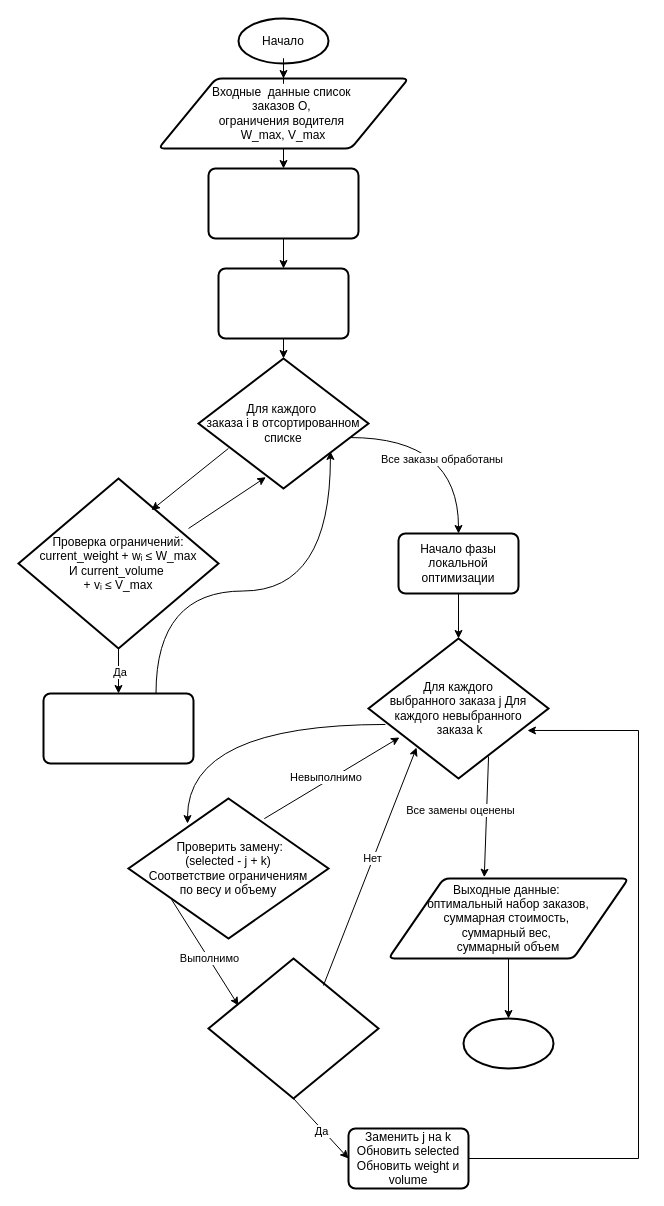
The diagram is 664 pixels wide and 1206 high, and some of its shapes have lost their labels. The centre of each missing label's shape, as x and y in pixels:
Добавить заказ i в selected Обновить current_weight Обновить current_volume: (x=118, y=728)
Инициализация: selected = [] current_weight = 0 current_volume = 0: (x=283, y=303)
Конец: (x=508, y=1043)
Новая суммарная стоимость > старой суммарной стоимости?: (x=293, y=1028)
Сортировка заказов по убыванию плотности ценности priceᵢ / (wᵢ × vᵢ): (x=283, y=203)
